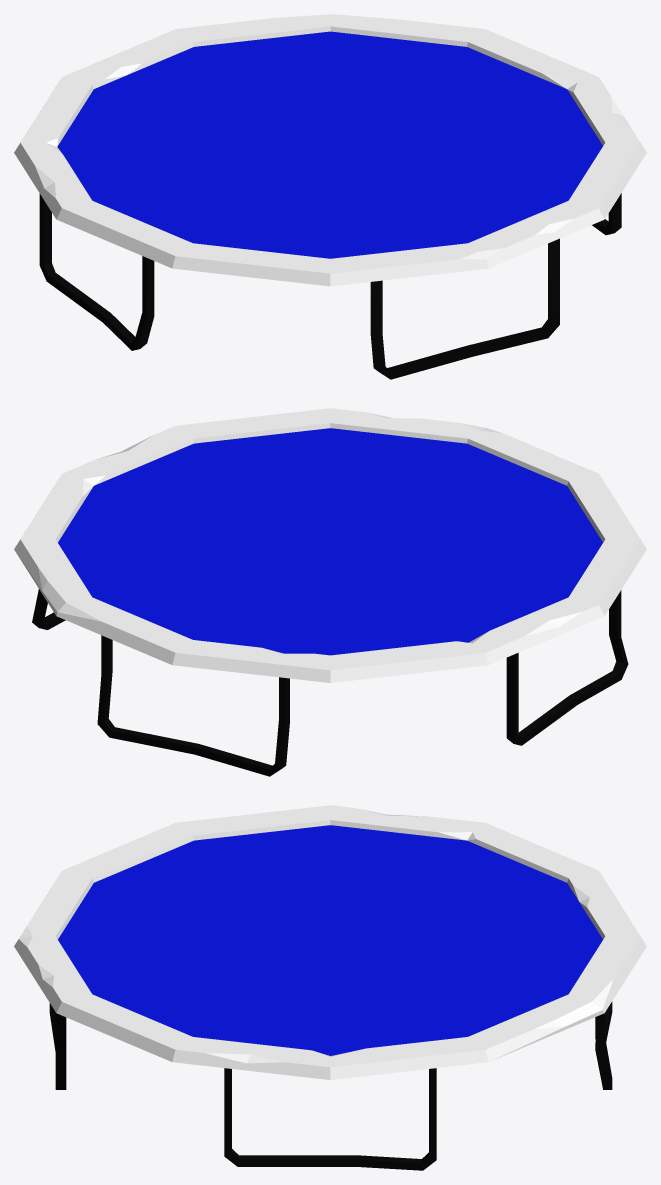
The model's file is SM_Prop_Trampoline_01.fbx.
The picture shows the model from 3 angles, top to bottom: view 1: azimuth 30°, elevation 25°; view 2: azimuth 150°, elevation 25°; view 3: azimuth 270°, elevation 25°; orthographic projection.
Visible parts, largest first — view 1: SM_Prop_Trampoline_01; view 2: SM_Prop_Trampoline_01; view 3: SM_Prop_Trampoline_01.
Boxes of the visible parts, x1,y1,x2,y2 form: SM_Prop_Trampoline_01: (14,14,646,379); SM_Prop_Trampoline_01: (14,408,646,776); SM_Prop_Trampoline_01: (14,805,646,1170).
Bounding box in the file's own units: 422 × 84.36 × 422.
